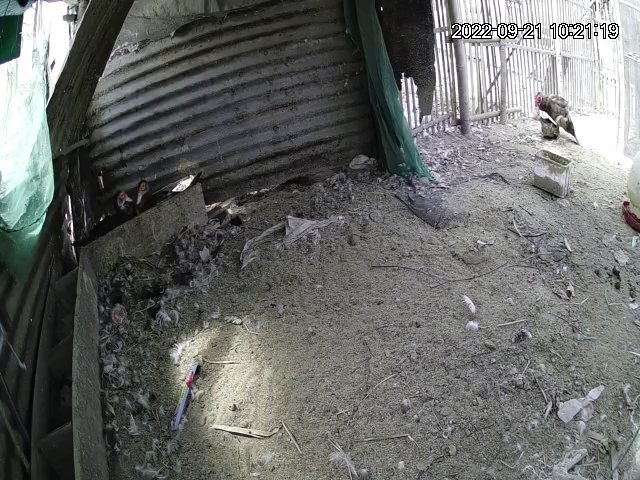Mengeram: (76, 174, 202, 245)
